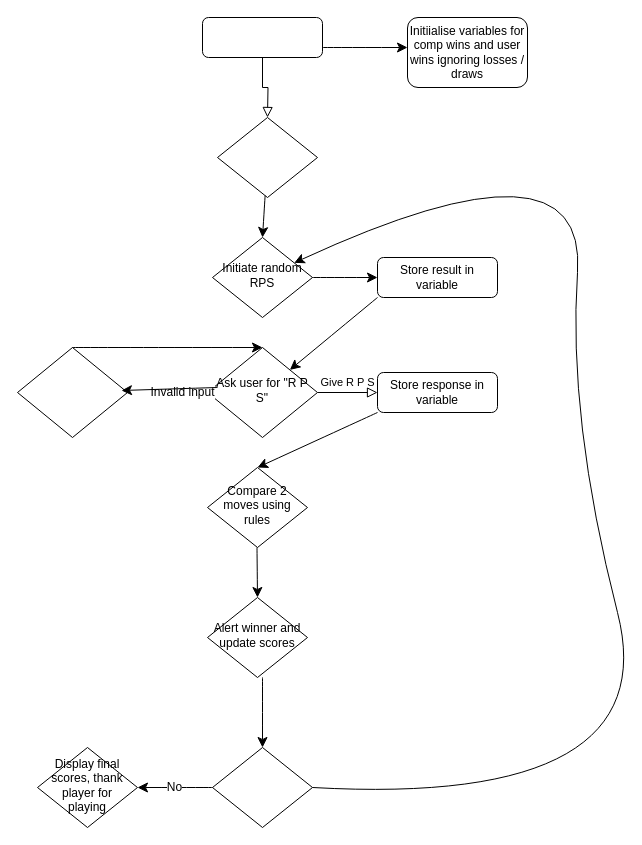
This 642x845 diagram has some shape labels left out. The box of each missing label's shape, as (x1, y1, x2, y2) in pixels:
Ask player if they want to play again: (212, 746, 312, 828)
Run game: (202, 16, 322, 58)
Set rules of RPS: (216, 116, 318, 198)
Tell user that was an invalid iinput try again: (16, 346, 128, 438)
